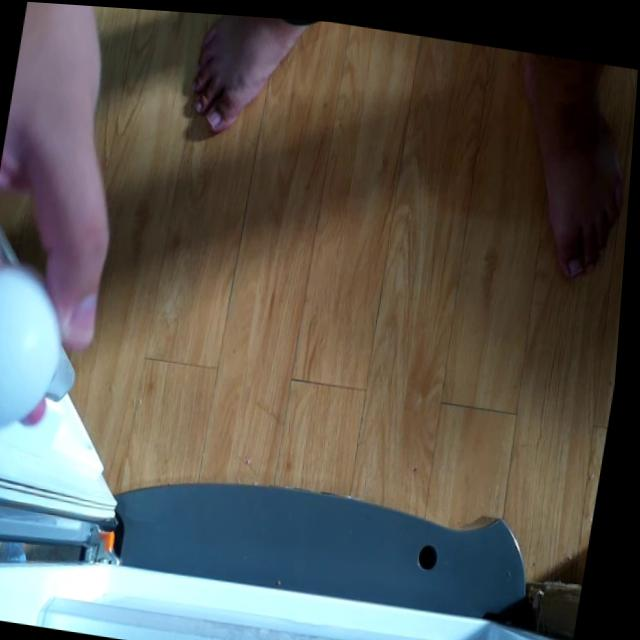egg: (0, 256, 84, 443)
